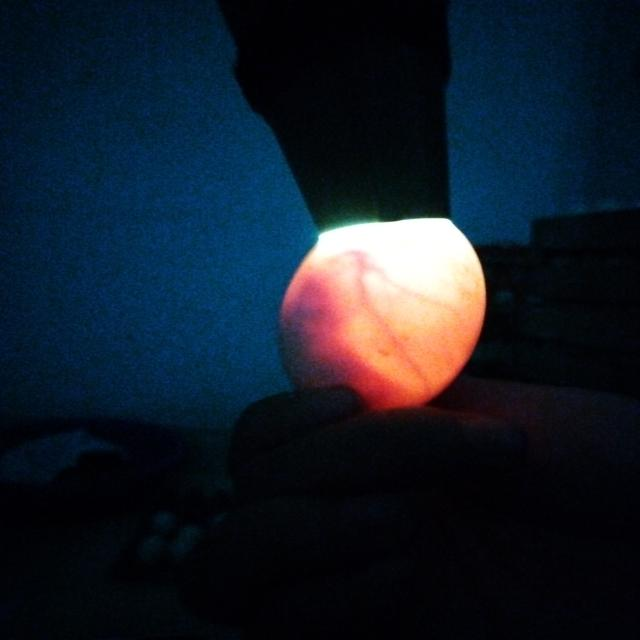Embriao: (280, 280, 403, 406)
